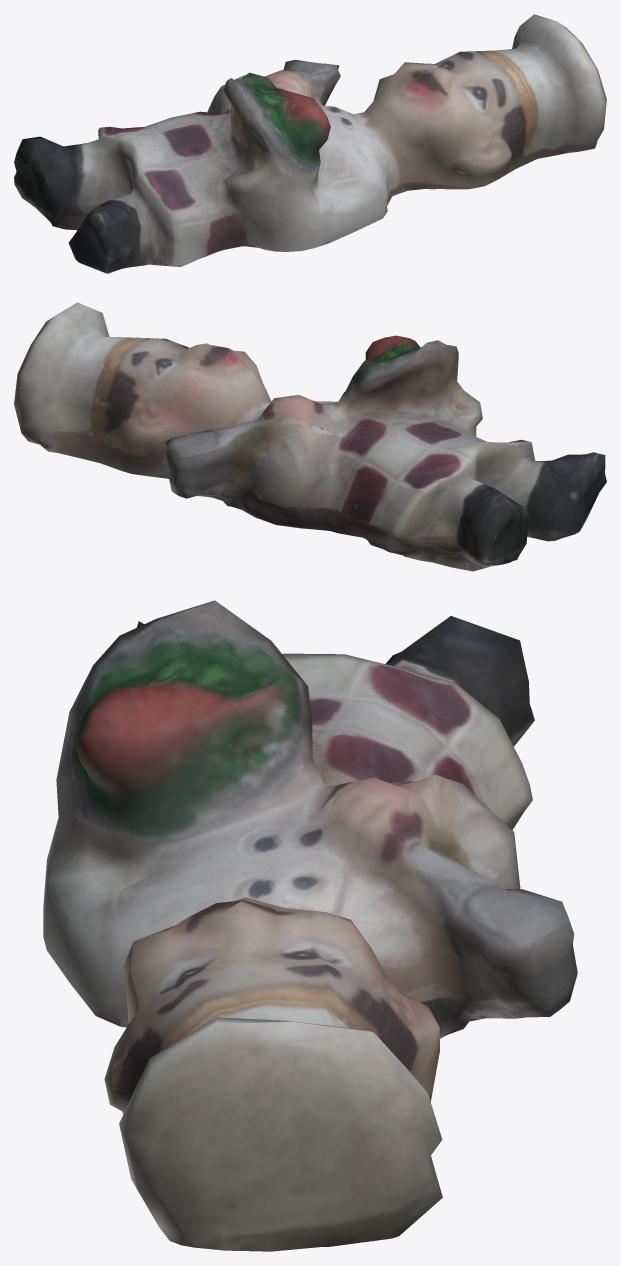
Rendered from muñeco.fbx.
The picture shows the model from 3 angles, top to bottom: view 1: azimuth 30°, elevation 25°; view 2: azimuth 150°, elevation 25°; view 3: azimuth 270°, elevation 25°; orthographic projection. The views are drawn at different scales.
Parts seen in each view (by area): view 1: muÃ±ecolow; view 2: muÃ±ecolow; view 3: muÃ±ecolow.
Part boxes in pixels (x1,y1,x2,y2): muÃ±ecolow: (14,14,606,273); muÃ±ecolow: (14,302,606,571); muÃ±ecolow: (43,600,577,1251).
Bounding box in the file's own units: 94.67 × 25.74 × 42.
